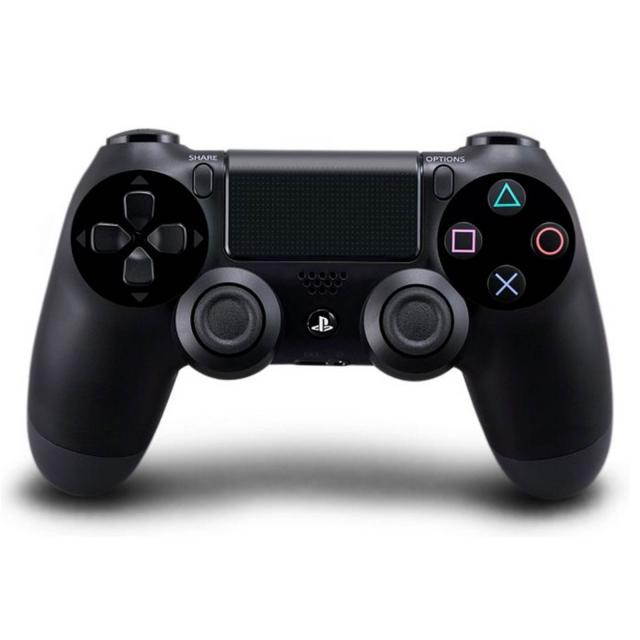ps4_controller: (54, 94, 640, 510)
